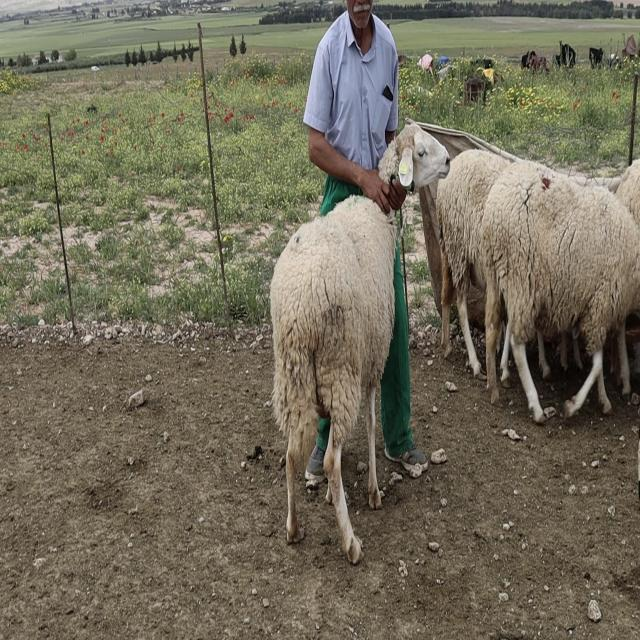Score_5: (270, 197, 396, 564)
